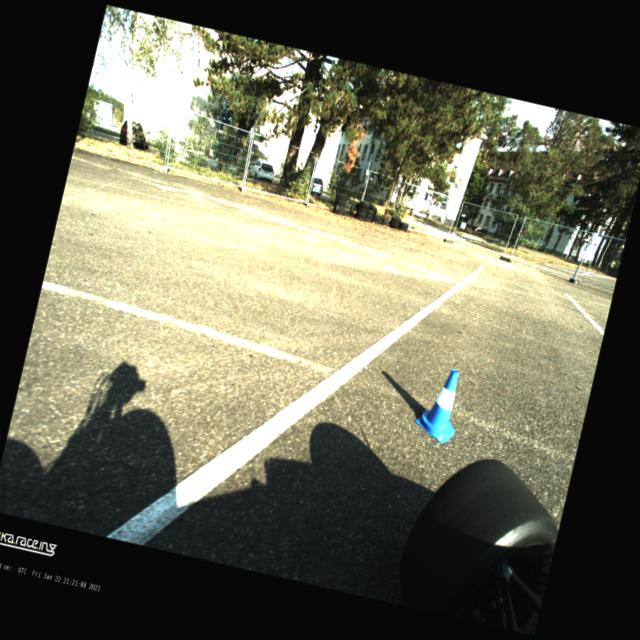blue_cone: (411, 363, 468, 445)
